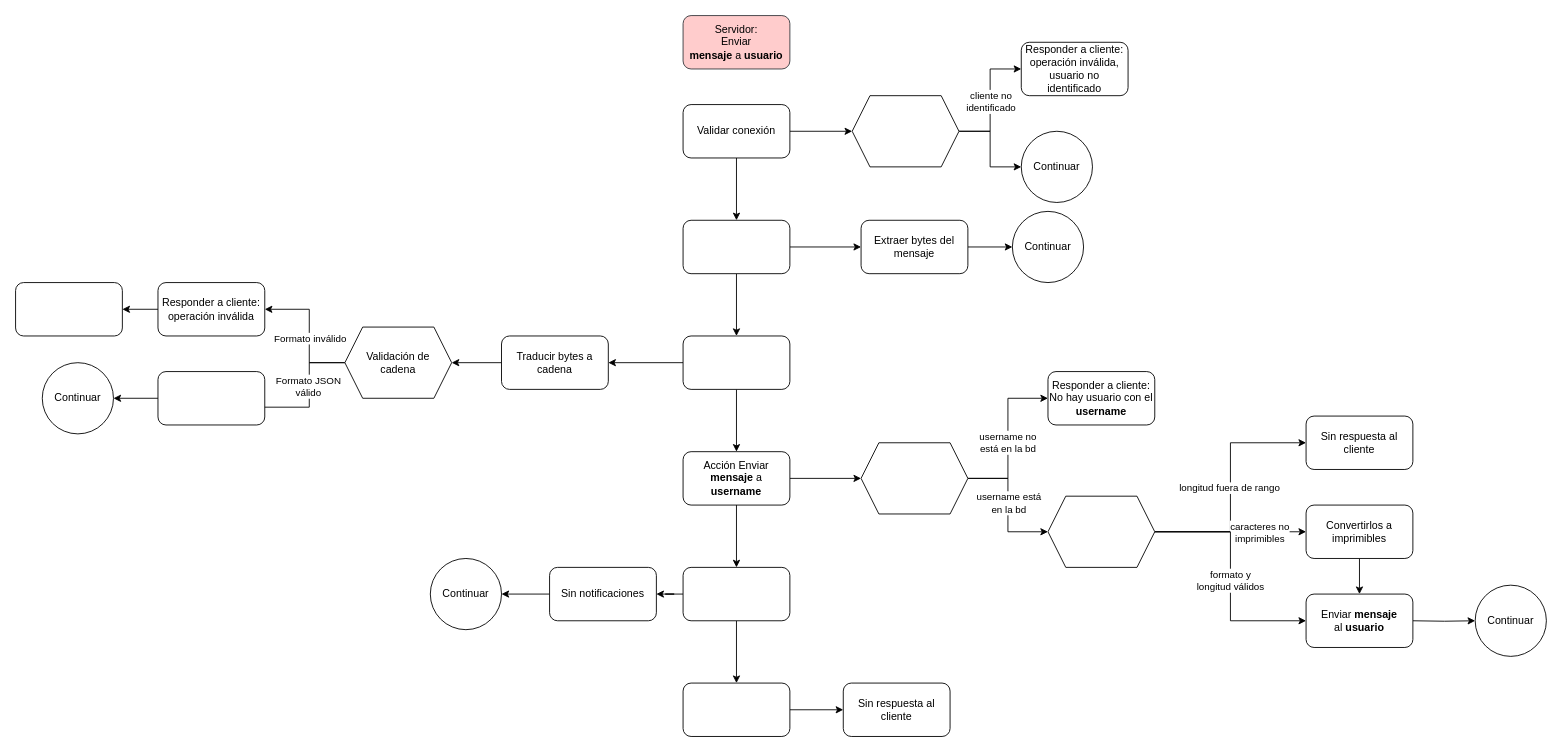
This 1562x752 diagram has some shape labels left out. The shapes that lost their labels are listed below. From the top down, each one's centre as x and y in pixels, then its label:
pixel 905 131: Validación de conexión
pixel 736 246: Recibir mensaje por red
pixel 68 309: Desconectar al cliente
pixel 736 362: Traducir mensaje -> acción
pixel 211 398: Traducir JSON a acción: enviar mensaje a username
pixel 914 478: Validación de username
pixel 1101 531: Validación de mensaje
pixel 736 593: Notificar a usuarios
pixel 736 709: Responder a cliente
